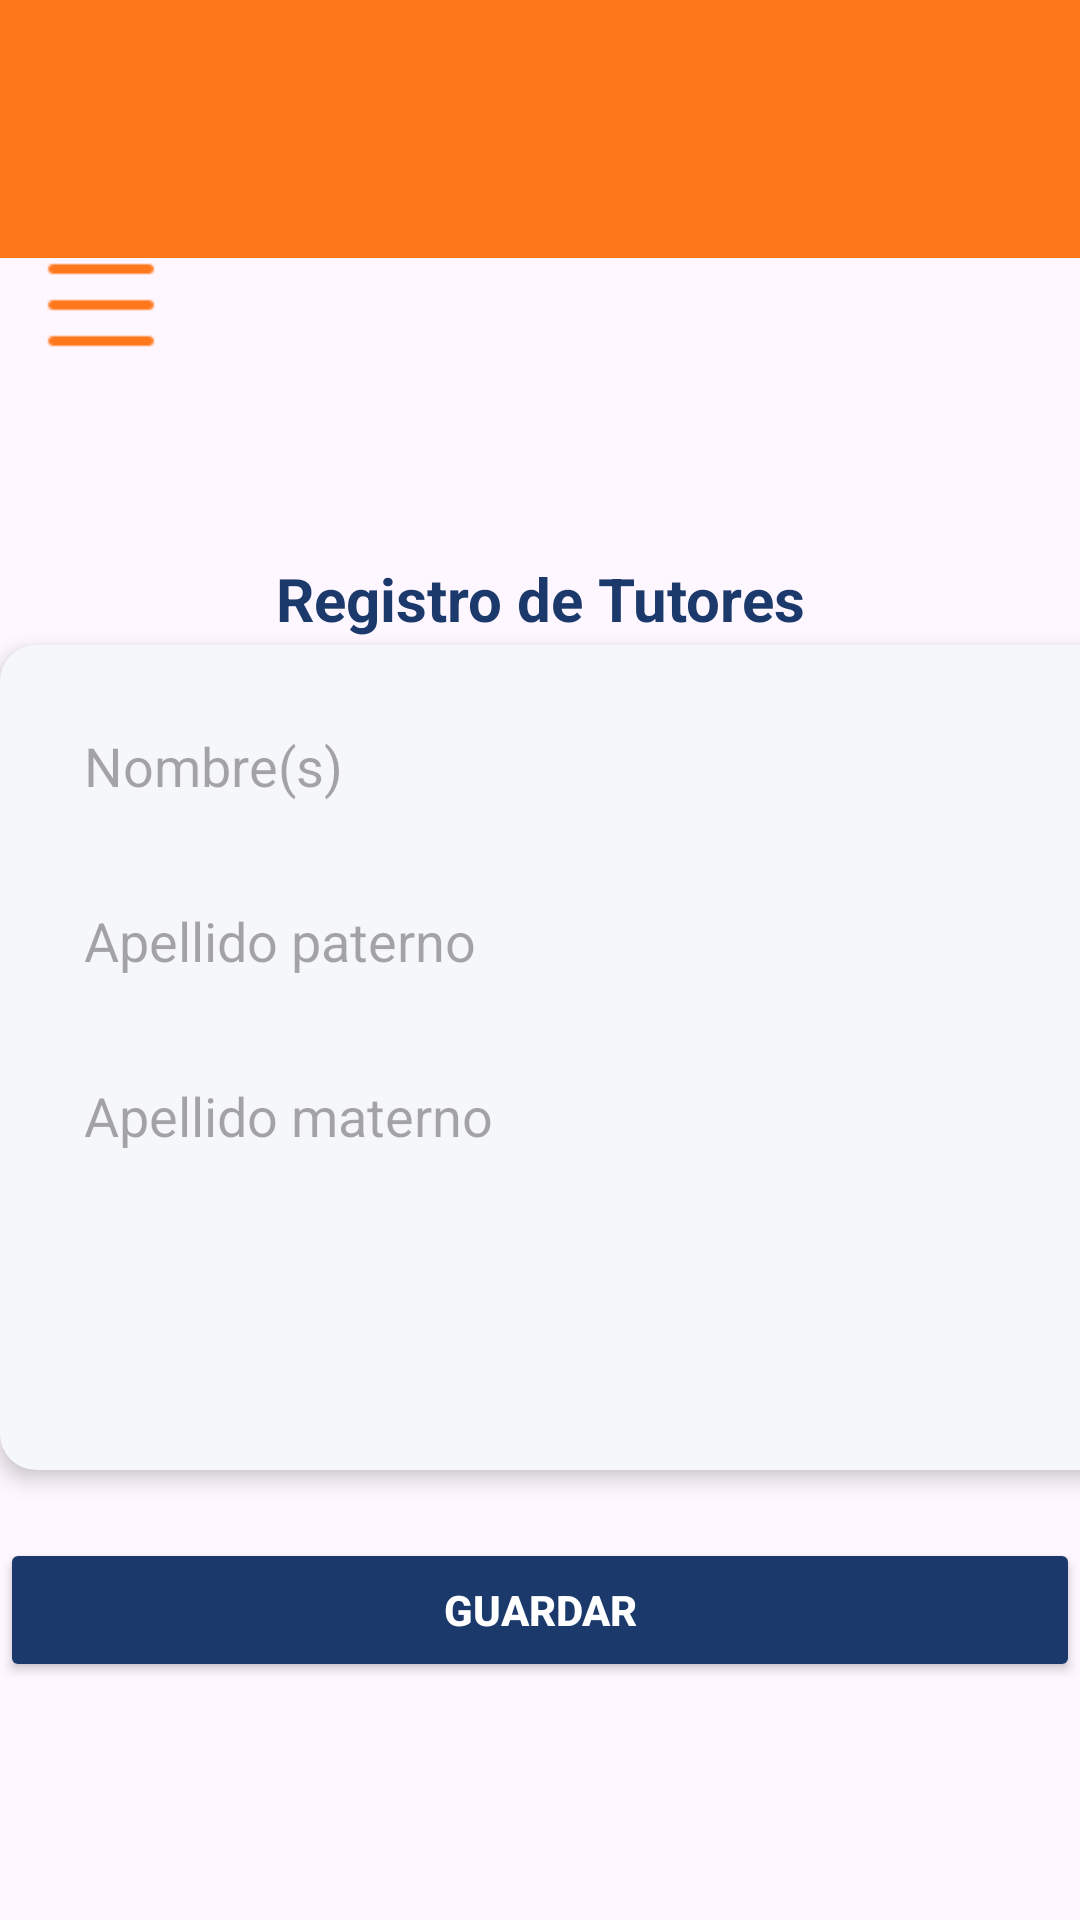

Where icons sit on this 1080x1920 app screen, as (x1, y1, x2, y2):
Menú: (47, 263, 155, 347)
